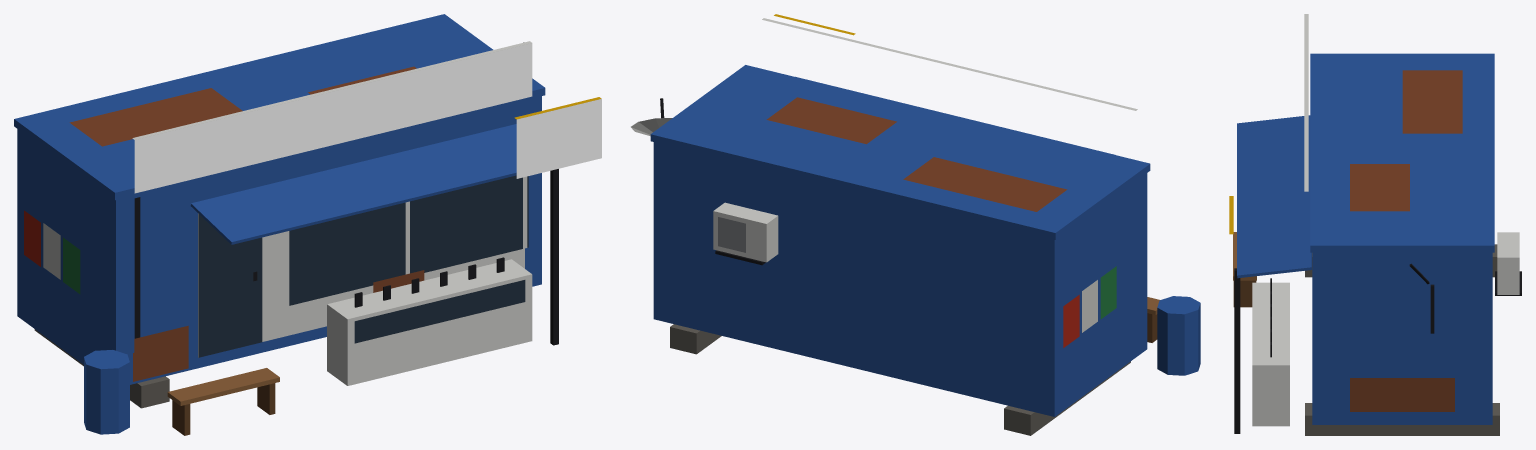
File: shop_container-phones.d9cf8baa608c.glb
3 views of the same model, side by side, from view 1: azimuth 30°, elevation 25°; view 2: azimuth 150°, elevation 25°; view 3: azimuth 270°, elevation 25° (orthographic). The views are drawn at different scales.
Visible parts, largest first — view 1: body; view 2: body; view 3: body.
Part boxes in pixels (x1,y1,x2,y2): body: (14, 14, 601, 435); body: (631, 14, 1200, 435); body: (1229, 14, 1521, 435).
Size of the model in its own units: 7.36 by 3.64 by 3.9.
